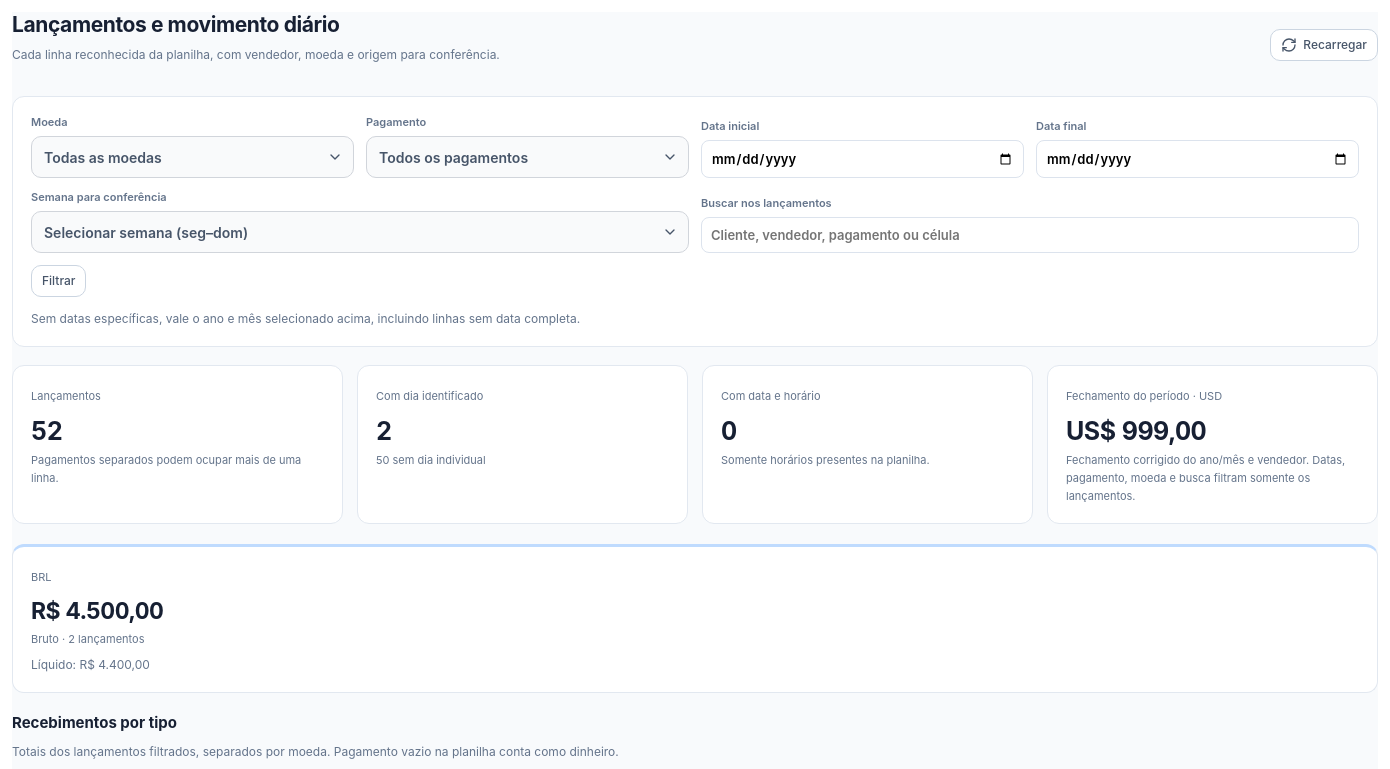
payment filters and receipt summaries › explains inferred dates, partial periods and the source of relevant incomplete rows
Click the button "Recarregar". click: (1324, 45)
box: [1270,29,1378,61]
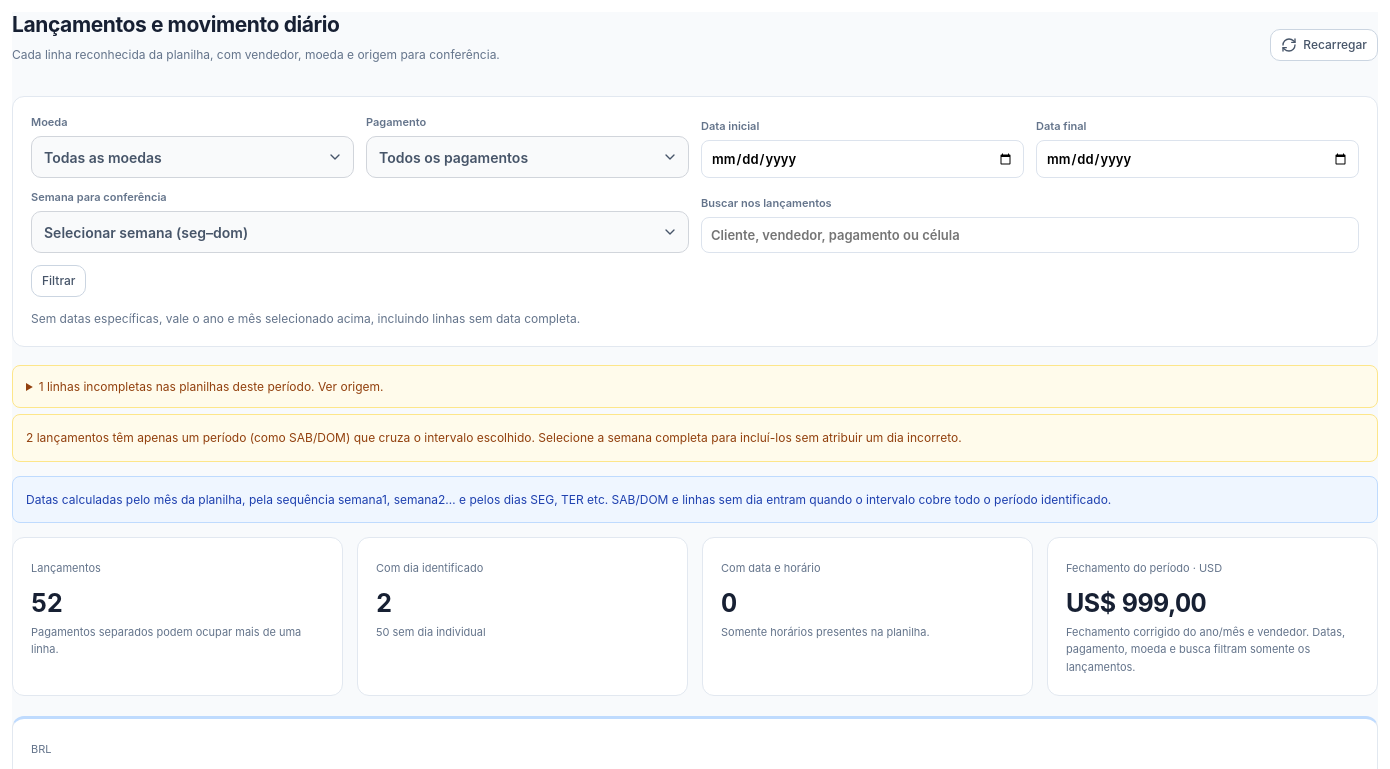
Expected: the text "2 lançamentos têm apenas um período" is shown, [26,430,962,445]
Expected: the text with class "info" shows "semana1, semana2", [26,492,1111,507]
